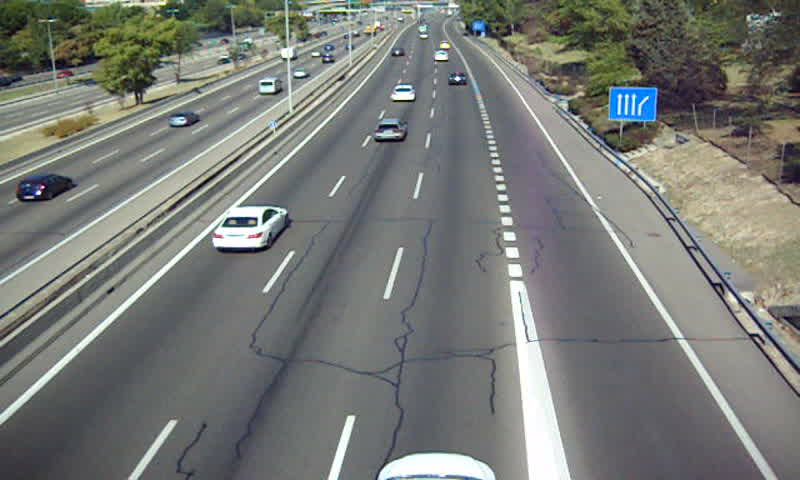car: (211, 208, 287, 251), (373, 118, 407, 141), (391, 85, 416, 102), (448, 71, 468, 87)
